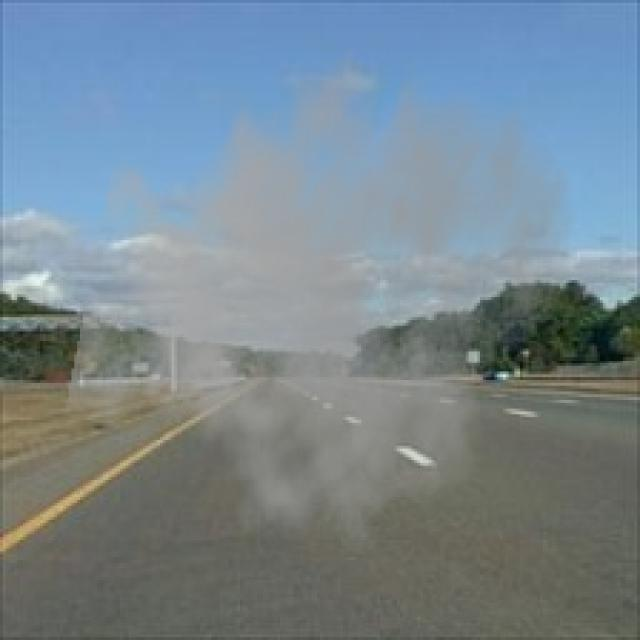smoke: (63, 23, 577, 557)
